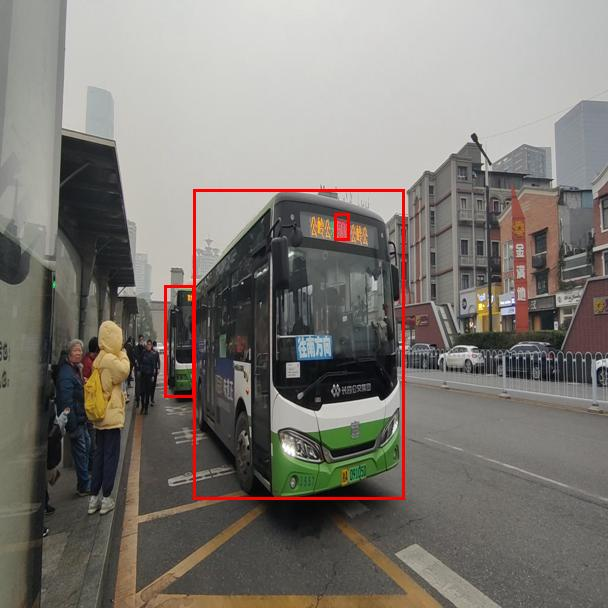bus: (193, 189, 404, 499), (164, 285, 194, 397)
screen: (334, 213, 349, 240)
